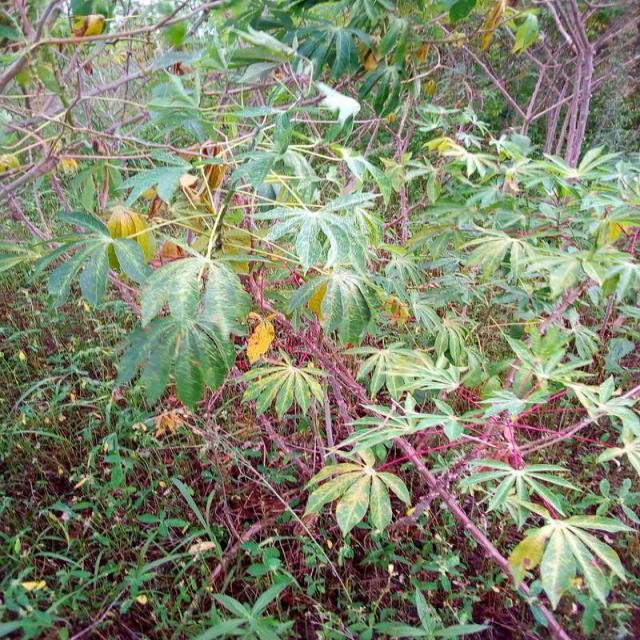cassava leaf: (114, 254, 252, 412), (302, 446, 412, 539)
